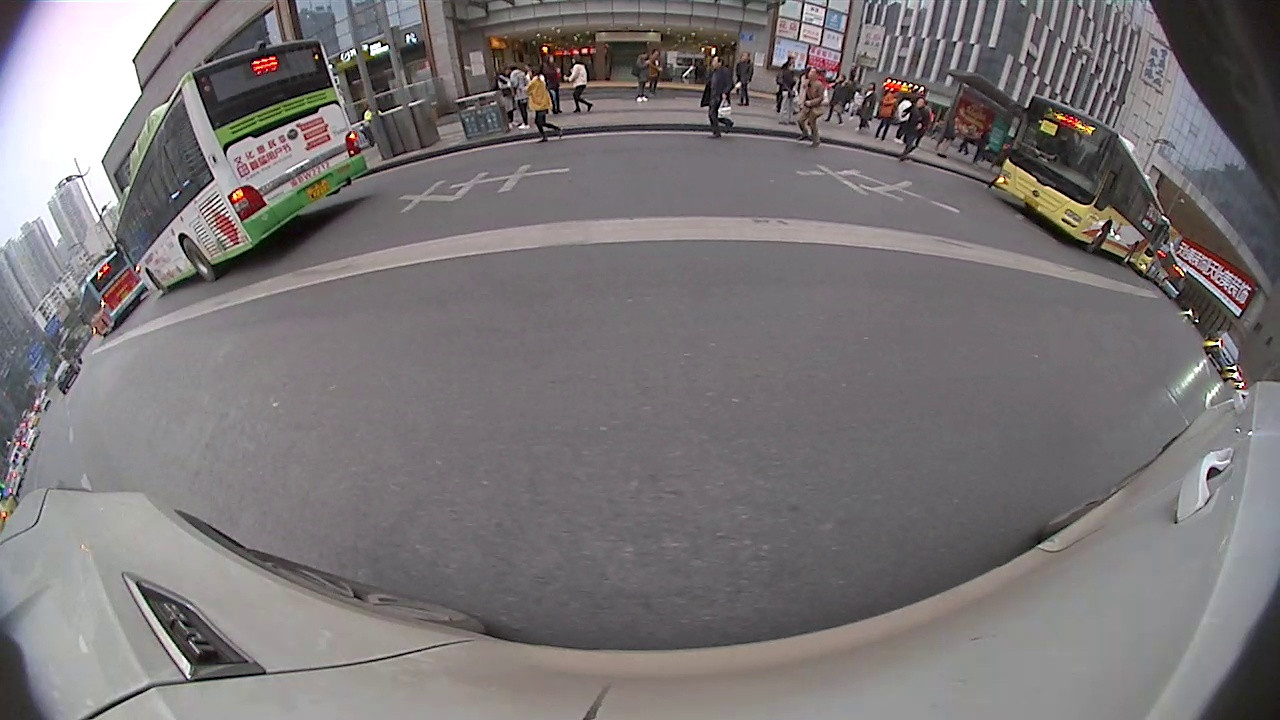bus: (111, 30, 362, 294), (1004, 93, 1163, 268), (77, 246, 149, 338)
car: (1207, 325, 1242, 377)
front: (1091, 219, 1114, 252)
person: (527, 65, 553, 144), (900, 100, 927, 163), (708, 57, 723, 138), (808, 68, 821, 151)
rear: (175, 239, 219, 282)
